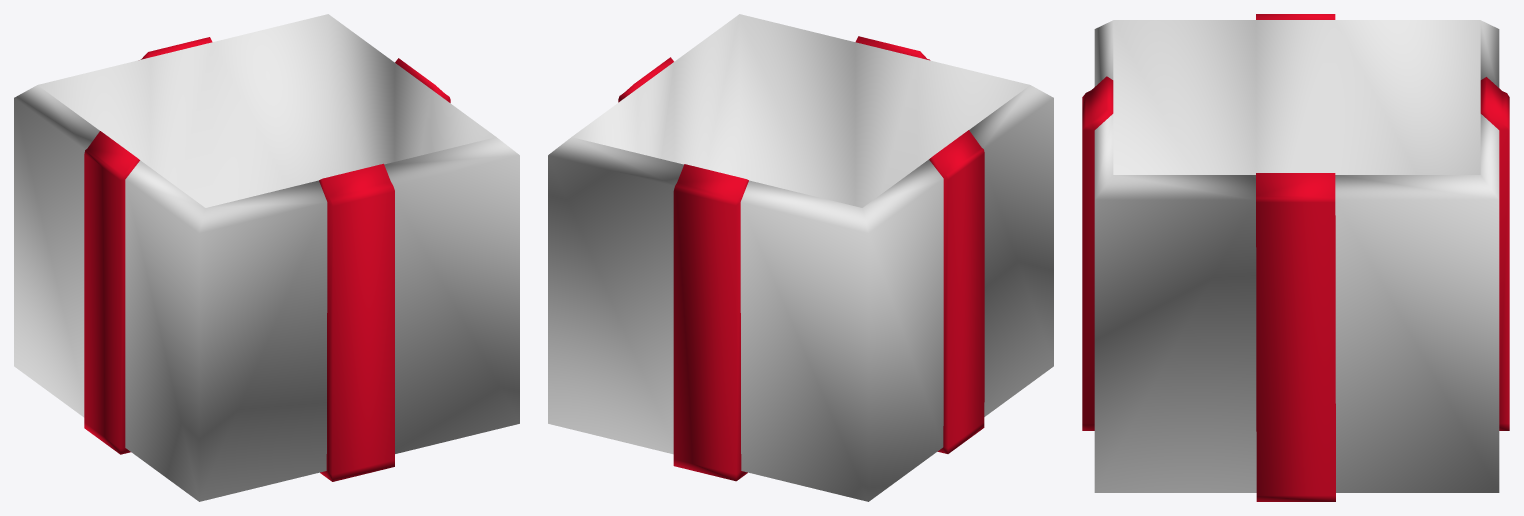
Rendered from box_under.fbx.
3 views of the same model, side by side, from view 1: azimuth 30°, elevation 25°; view 2: azimuth 150°, elevation 25°; view 3: azimuth 270°, elevation 25° (orthographic). The views are drawn at different scales.
Visible parts, largest first — view 1: under; view 2: under; view 3: under.
Part boxes in pixels (x1,y1,x2,y2): under: (14,14,519,501); under: (548,14,1053,501); under: (1082,14,1509,501).
Size of the model in its own units: 257 by 220 by 264.
